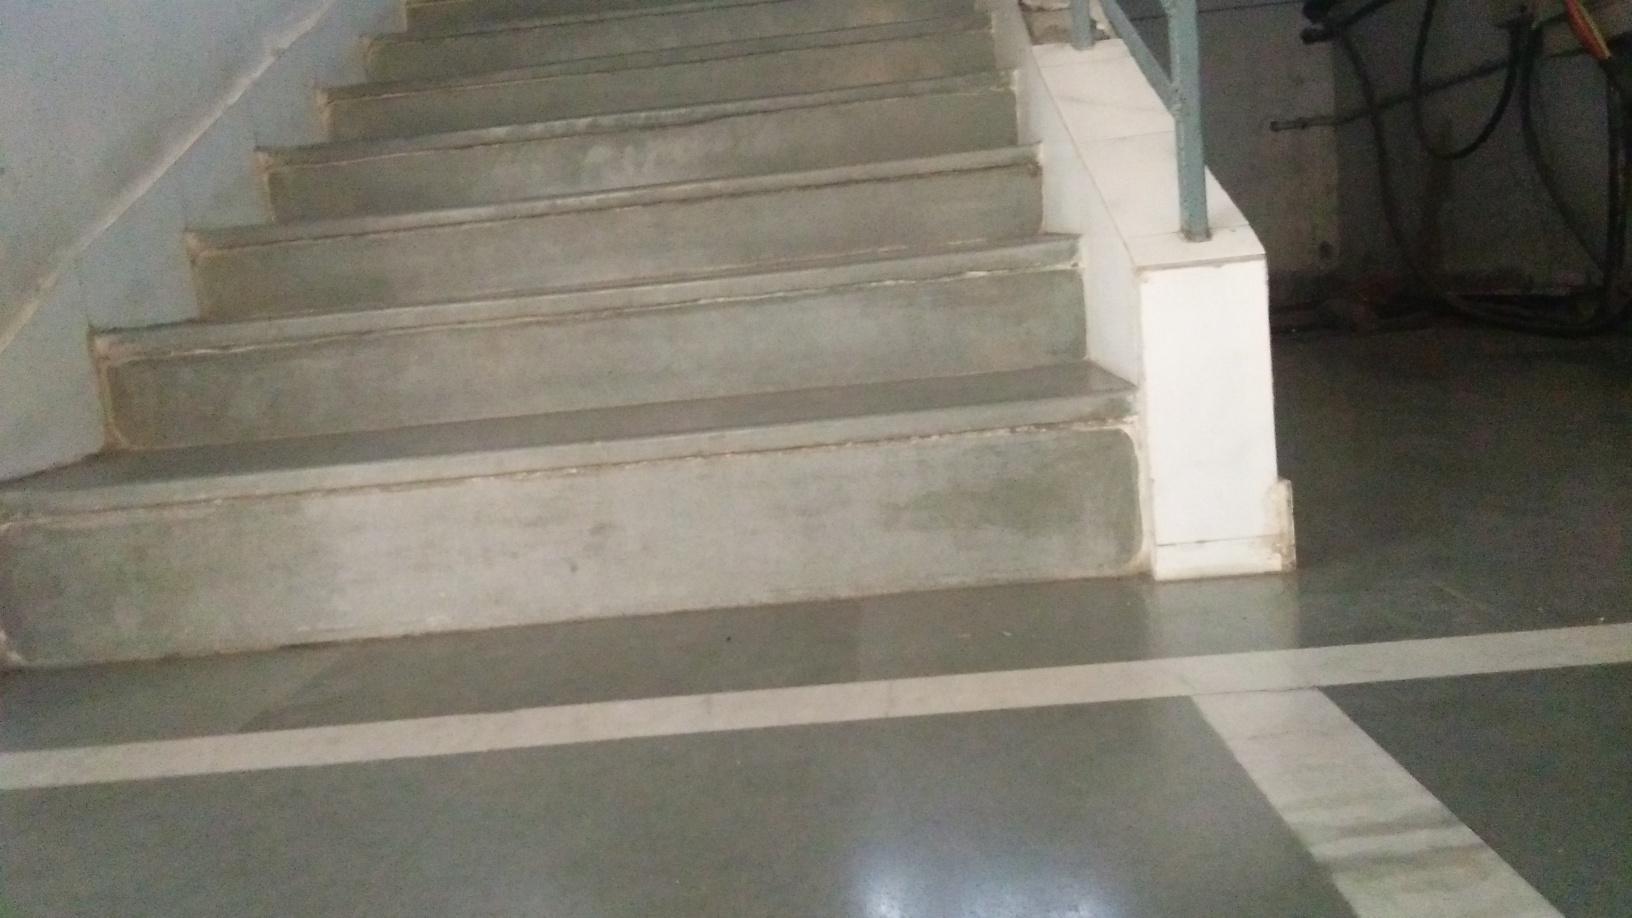stairs_up: (6, 4, 1163, 642)
